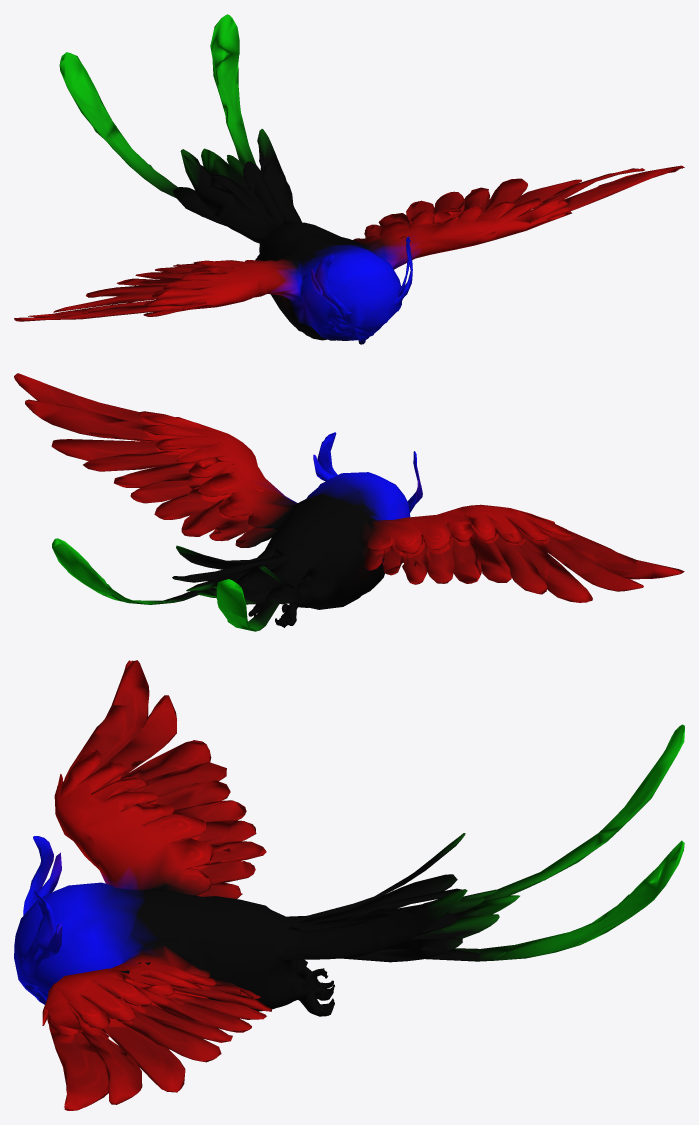
Rendered from spirit_owl.glb.
3 renders of one model, top to bottom at view 1: azimuth 30°, elevation 25°; view 2: azimuth 150°, elevation 25°; view 3: azimuth 270°, elevation 25°, orthographic. The views are drawn at different scales.
Parts seen in each view (by area): view 1: SpiritOwl; view 2: SpiritOwl; view 3: SpiritOwl.
Part boxes in pixels (x1,y1,x2,y2): SpiritOwl: [14, 14, 684, 344]; SpiritOwl: [14, 373, 684, 631]; SpiritOwl: [14, 660, 684, 1110].
Size of the model in its own units: 10.69 by 2.72 by 6.51.
1 material, 1 textured.
